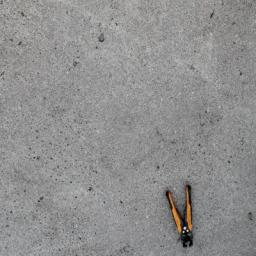FOD: (166, 184, 201, 250)
